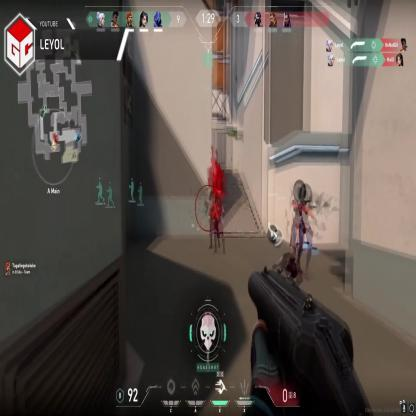enemy: (292, 190, 312, 276)
enemy_head: (297, 182, 307, 206)
